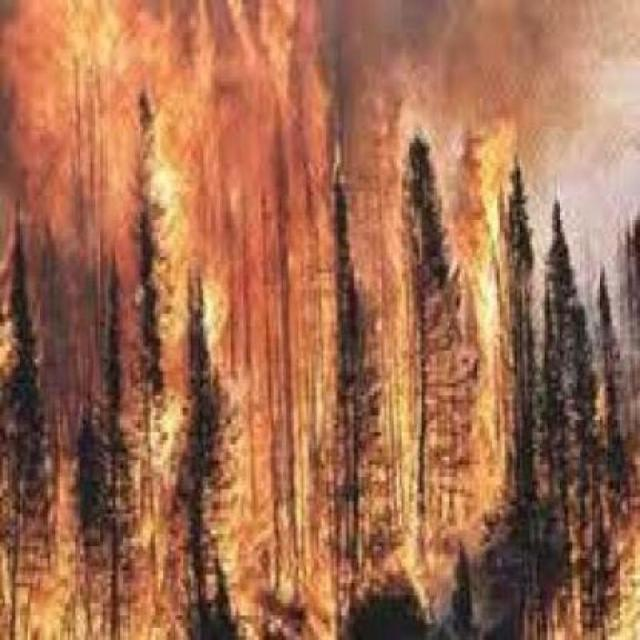Fire: (5, 112, 640, 640)
